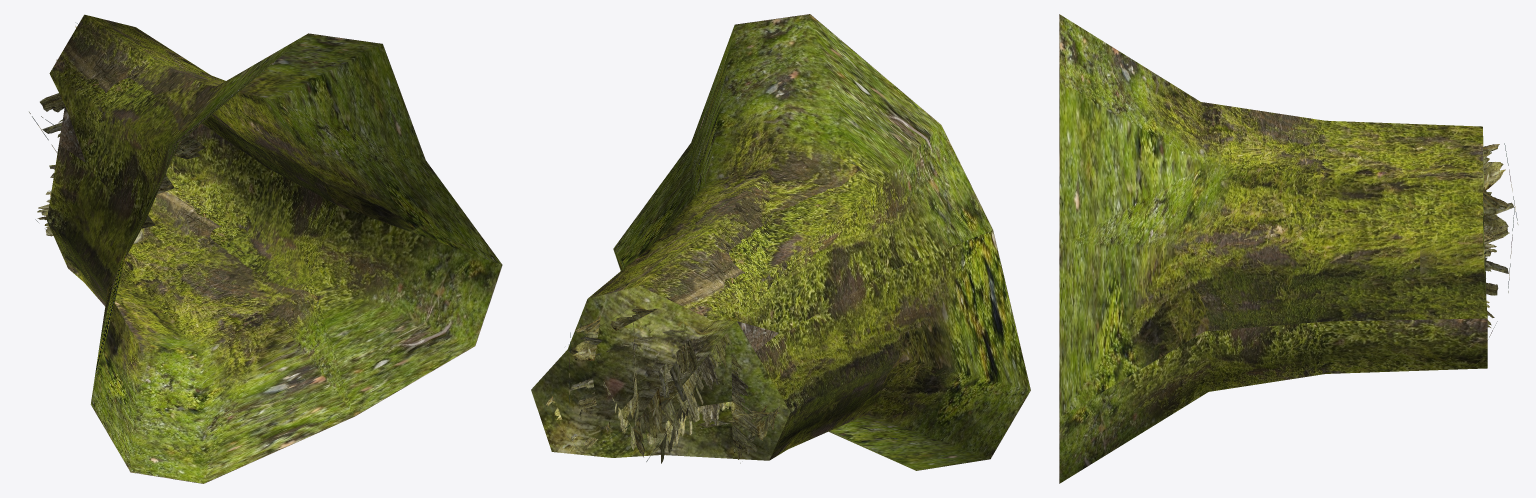
File: forest ground stub 1.fbx
3 views of the same model, side by side, from view 1: azimuth 30°, elevation 25°; view 2: azimuth 150°, elevation 25°; view 3: azimuth 270°, elevation 25° (orthographic). The views are drawn at different scales.
Visible parts, largest first — view 1: Cylinder_006; view 2: Cylinder_006; view 3: Cylinder_006.
Boxes of the visible parts, x1,y1,x2,y2 form: Cylinder_006: [29, 14, 502, 483]; Cylinder_006: [531, 14, 1030, 470]; Cylinder_006: [1059, 14, 1518, 483].
Bounding box in the file's own units: 1.1 × 1.08 × 0.9875.
